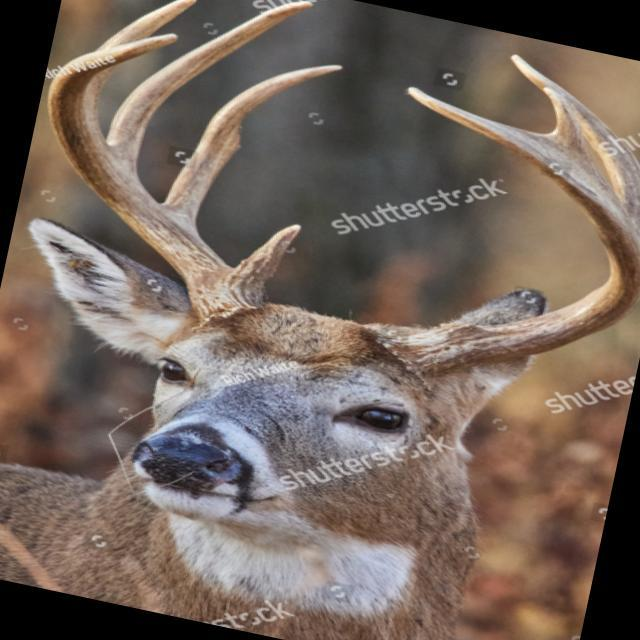E1: (543, 85, 596, 169)
L-F: (373, 85, 640, 379)
R-F: (46, 32, 262, 331)
R-G1: (233, 223, 300, 284)
R-G2: (163, 64, 343, 227)
R-G3: (105, 0, 314, 172)
